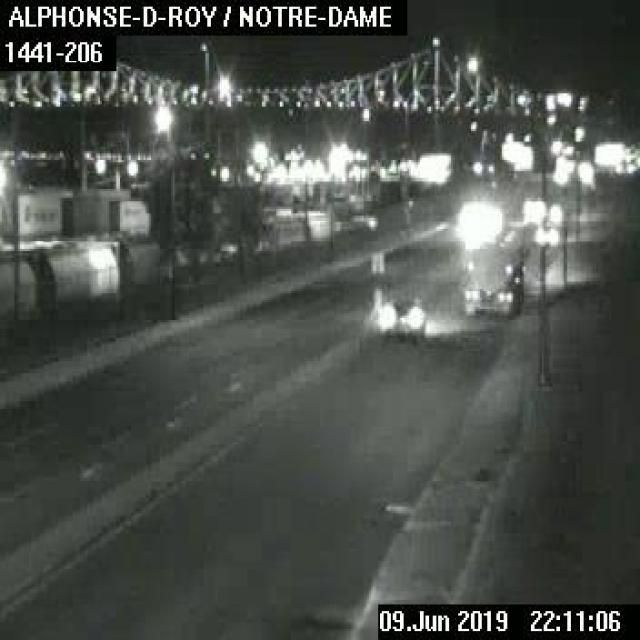vehicle: (458, 253, 526, 316), (377, 293, 427, 340), (531, 196, 558, 242), (522, 191, 540, 220)
